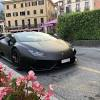Lamborghini: (1, 32, 78, 69)
